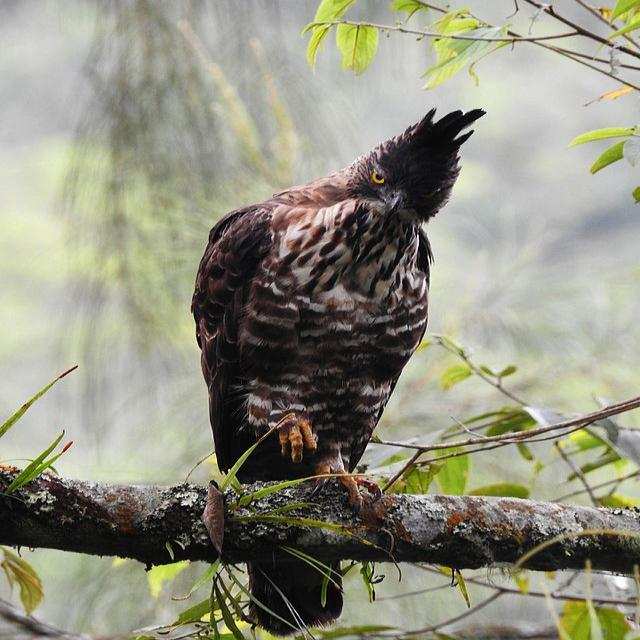Elang Jawa: (179, 91, 510, 640)
